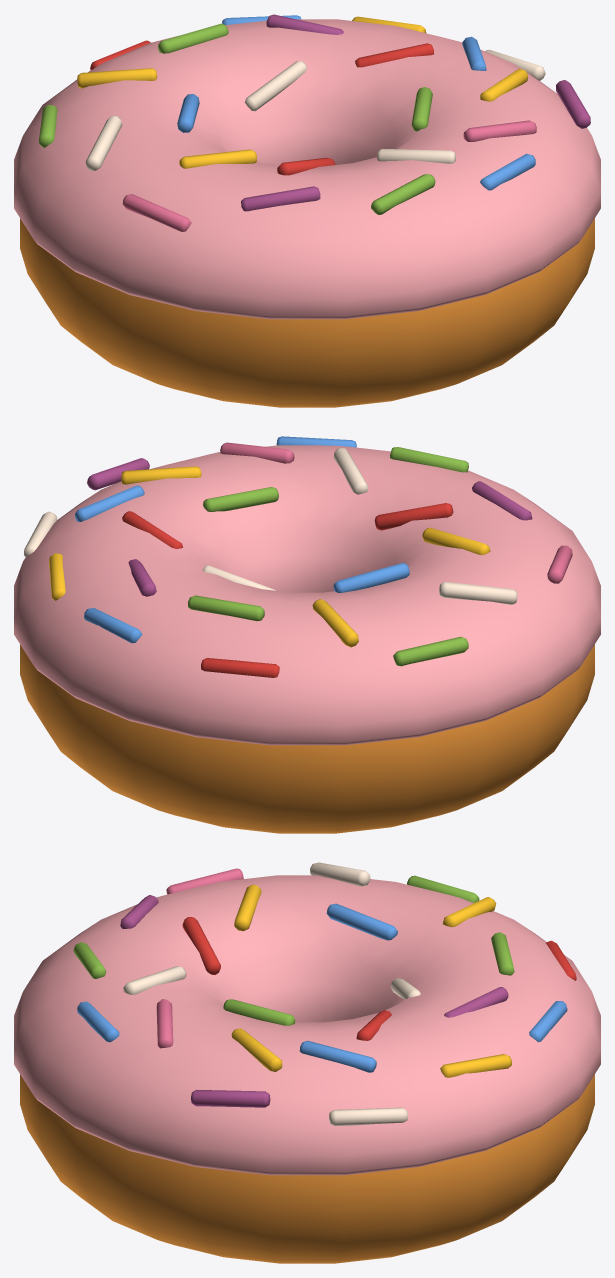
The model's file is donut_03.fbx.
3 views of the same model, one above another, from view 1: azimuth 30°, elevation 25°; view 2: azimuth 150°, elevation 25°; view 3: azimuth 270°, elevation 25° (orthographic).
Parts seen in each view (by area): view 1: donut_03; view 2: donut_03; view 3: donut_03.
Part boxes in pixels (x1,y1,x2,y2): donut_03: (14,14,600,407); donut_03: (14,436,600,833); donut_03: (14,862,600,1263).
Size of the model in its own units: 1716 by 731 by 1716.
